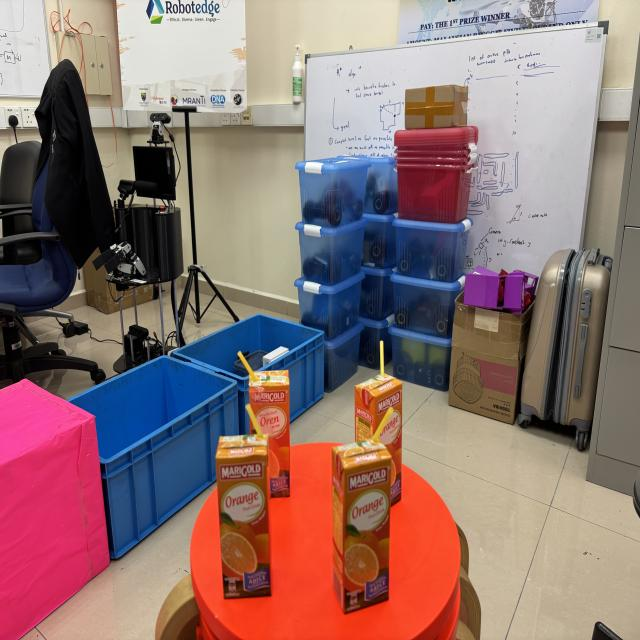drink_carton: (325, 400, 400, 628), (210, 402, 280, 608), (233, 339, 306, 507), (350, 339, 410, 522)
